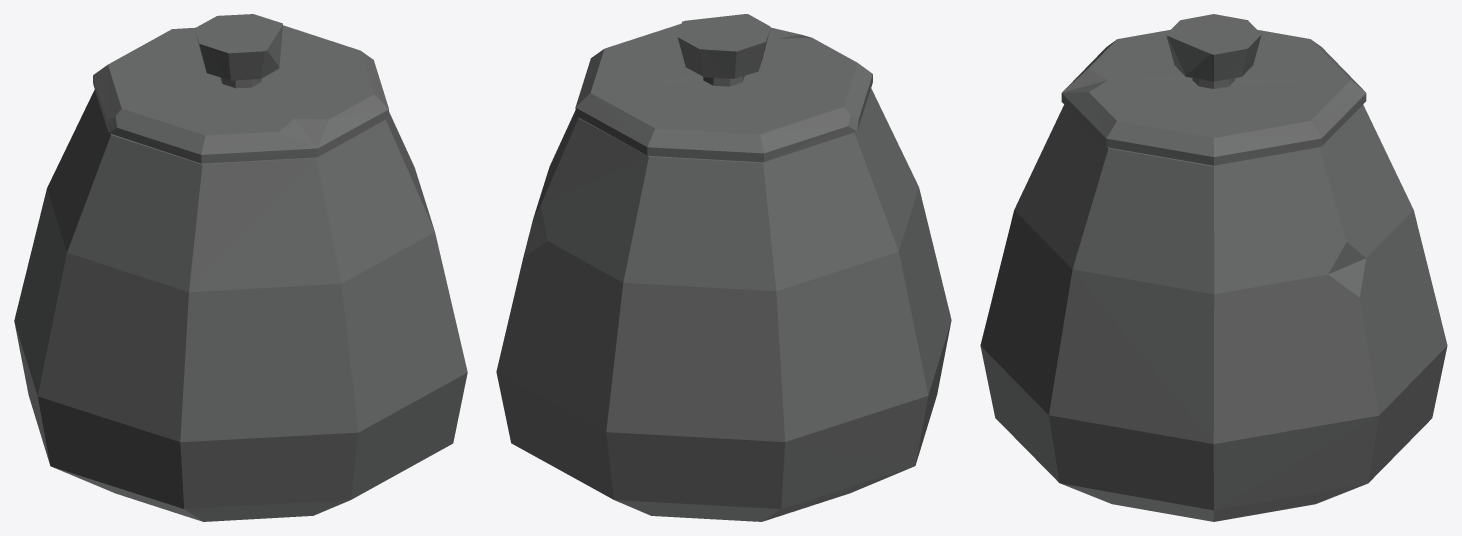
Rendered from SFI_Jar_027.fbx.
The picture shows the model from 3 angles, left to right: view 1: azimuth 30°, elevation 25°; view 2: azimuth 150°, elevation 25°; view 3: azimuth 270°, elevation 25°; orthographic projection.
Parts seen in each view (by area): view 1: SFI_Jar_027; view 2: SFI_Jar_027; view 3: SFI_Jar_027.
Part boxes in pixels (bbox=[...]): SFI_Jar_027: bbox=[14, 14, 467, 521]; SFI_Jar_027: bbox=[496, 14, 951, 521]; SFI_Jar_027: bbox=[980, 14, 1447, 521].
Size of the model in its own units: 15.51 by 15.65 by 15.52.
